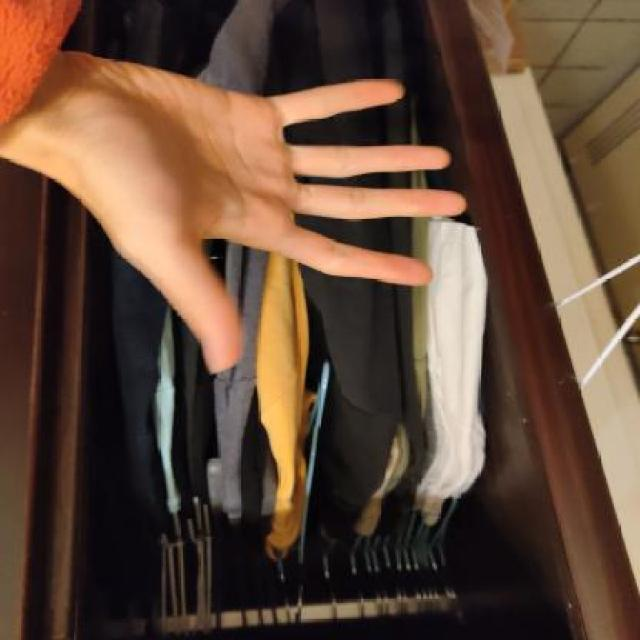bare_hand: (15, 0, 472, 385)
